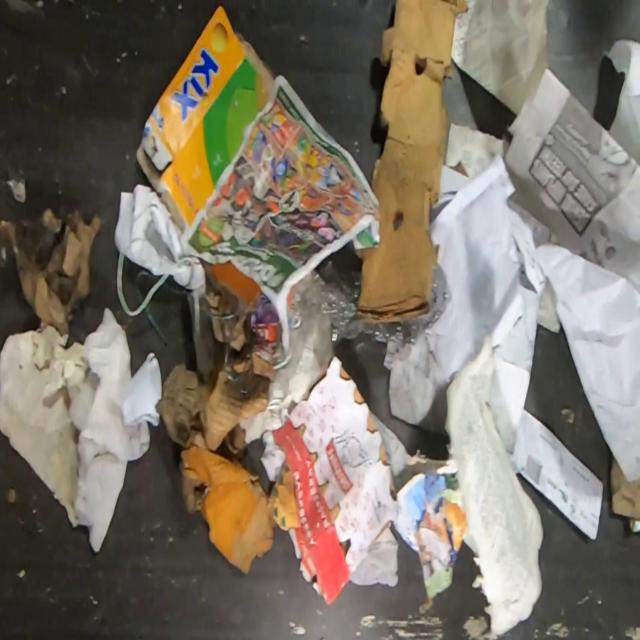cardboard: (356, 0, 469, 321), (260, 354, 402, 604), (133, 1, 275, 241), (154, 254, 274, 459), (178, 446, 302, 576), (0, 205, 106, 338), (612, 410, 640, 638)
rigid_plastic: (292, 260, 453, 348)
